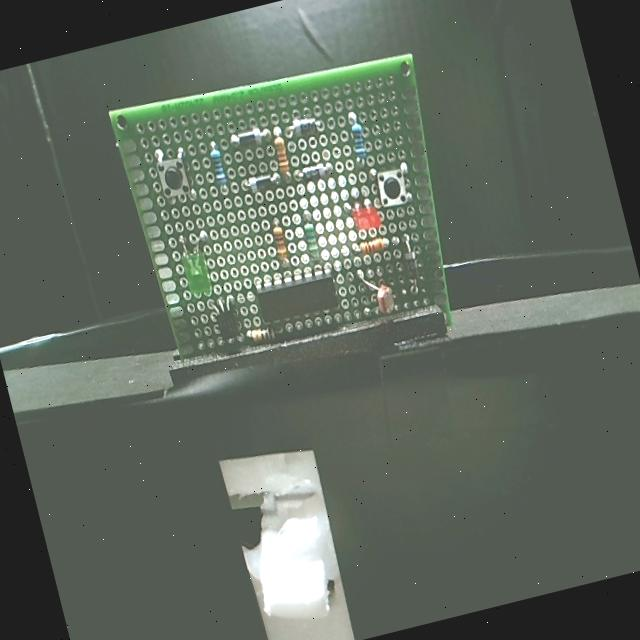IC: (252, 262, 349, 329)
cds: (366, 275, 401, 322)
diode: (242, 164, 282, 204), (225, 119, 268, 153), (396, 239, 426, 287), (295, 154, 333, 190), (288, 108, 320, 138)
led: (180, 242, 220, 296), (346, 196, 386, 238)
resistor: (297, 215, 329, 271), (342, 110, 374, 162), (268, 133, 298, 180), (353, 227, 392, 263), (203, 144, 232, 188), (266, 221, 291, 265), (242, 316, 274, 348)
switch: (370, 158, 413, 210), (154, 148, 194, 202)
transistor: (205, 290, 248, 346)
